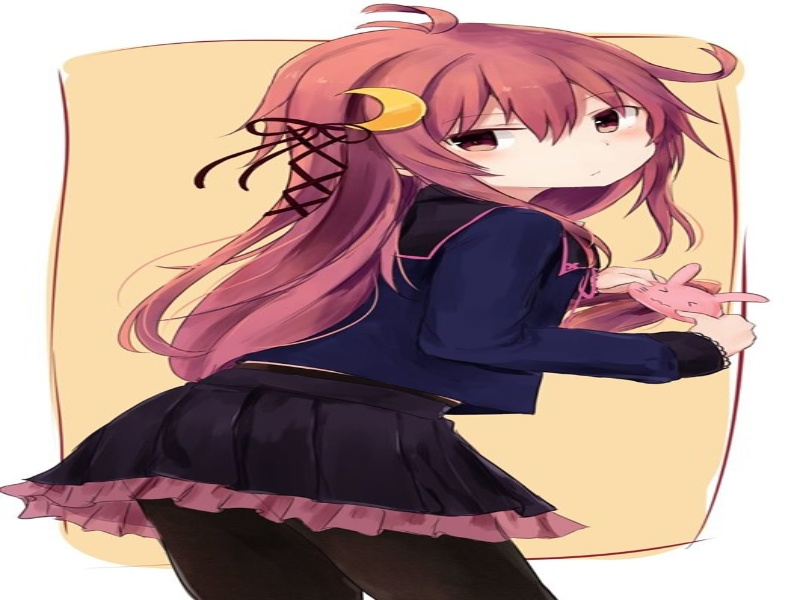dress: (3, 338, 623, 556)
person: (283, 4, 693, 211)
